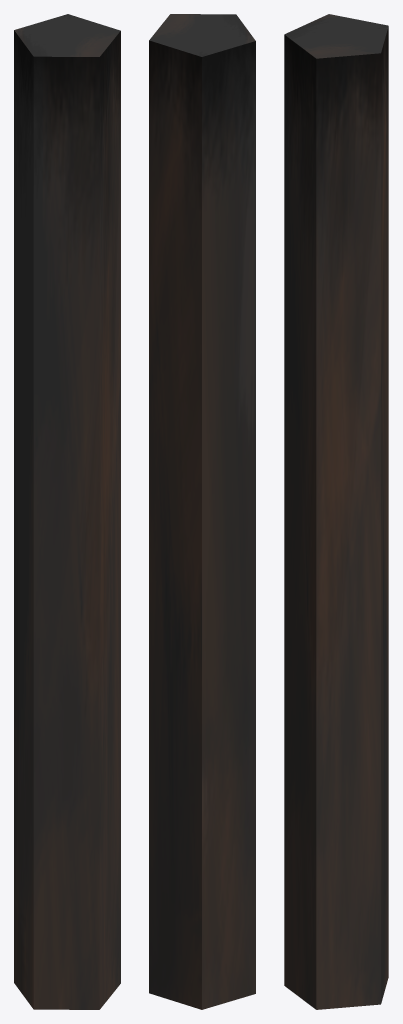
File: gear_post.fbx
3 views of the same model, side by side, from view 1: azimuth 30°, elevation 25°; view 2: azimuth 210°, elevation 25°; view 3: azimuth 330°, elevation 25° (orthographic).
Parts seen in each view (by area): view 1: post2; view 2: post2; view 3: post2.
Part boxes in pixels (box(x1,y1,x2,y2)): post2: box(14, 14, 120, 1009); post2: box(149, 14, 255, 1009); post2: box(284, 14, 388, 1009).
Bounding box in the file's own units: 0.5225 × 5.17 × 0.5117.
2 materials, 1 textured.
